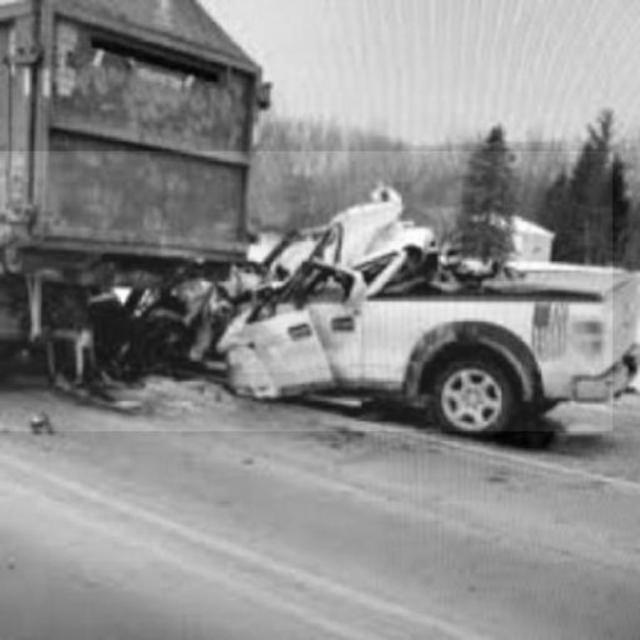accident: (0, 152, 612, 431)
